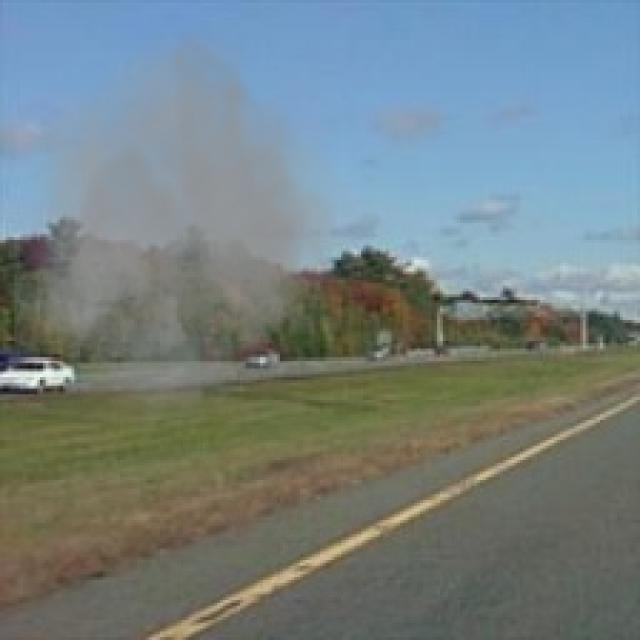smoke: (14, 14, 377, 440)
